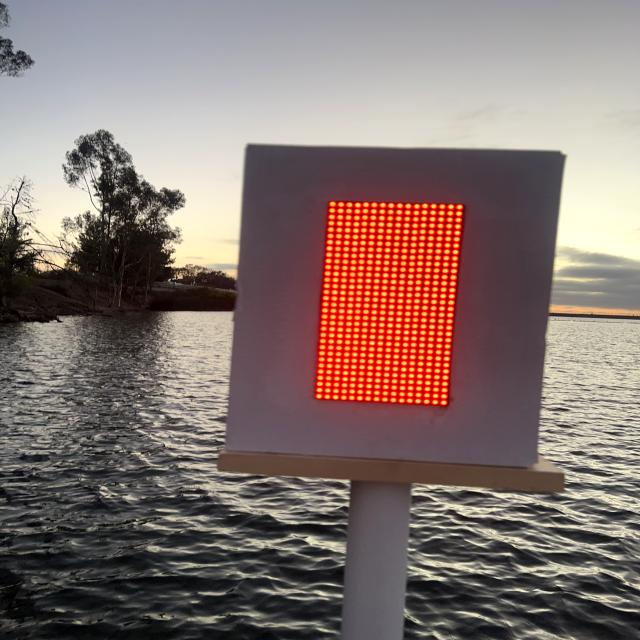led: (280, 182, 521, 444)
